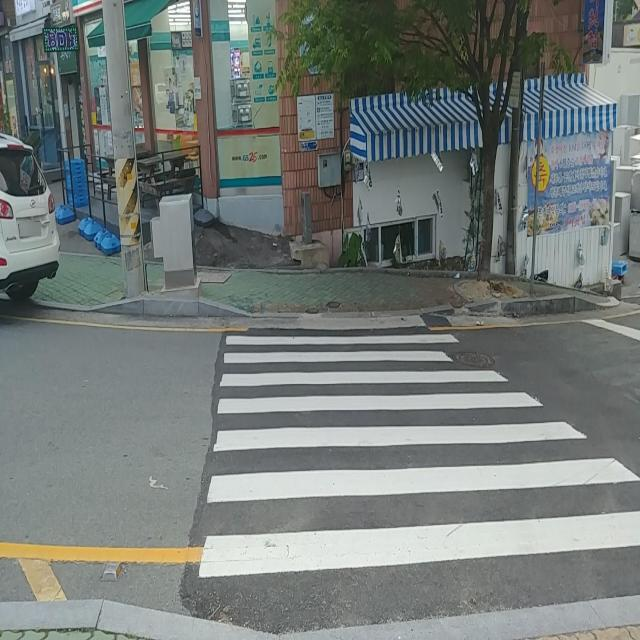횡단보도: (196, 330, 640, 583)
